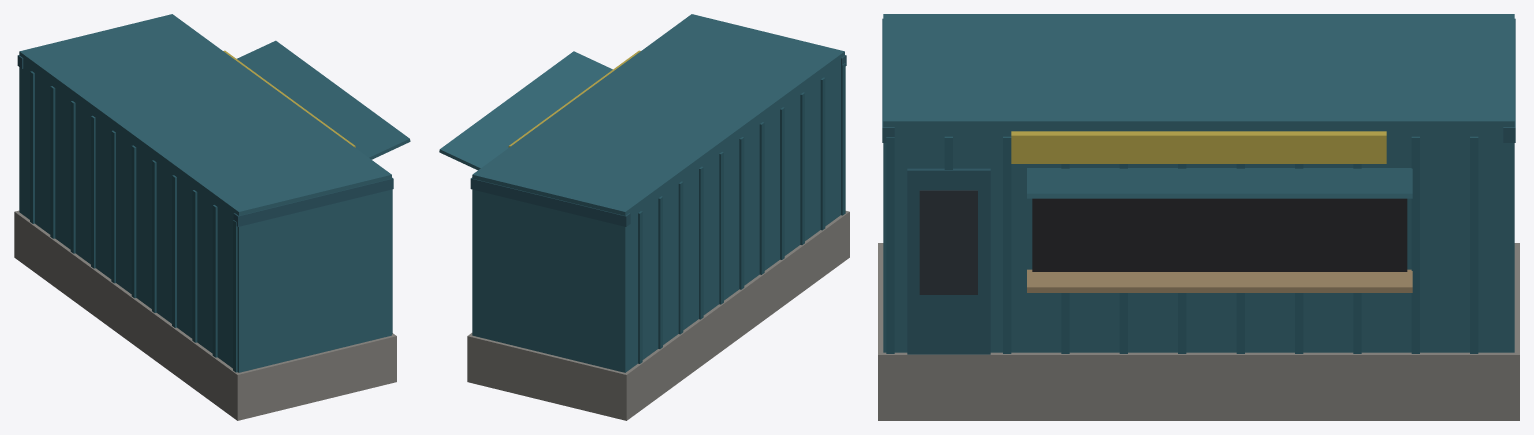
File: SM_Prop_cafe_building_2_LOD1.glb
3 renders of one model, left to right at view 1: azimuth 30°, elevation 25°; view 2: azimuth 150°, elevation 25°; view 3: azimuth 270°, elevation 25°, orthographic. The views are drawn at different scales.
Parts seen in each view (by area): view 1: SM_Prop_cafe_building_2_LOD1; view 2: SM_Prop_cafe_building_2_LOD1; view 3: SM_Prop_cafe_building_2_LOD1.
Part boxes in pixels (box(x1,y1,x2,y2)): SM_Prop_cafe_building_2_LOD1: box(14, 14, 410, 420); SM_Prop_cafe_building_2_LOD1: box(439, 14, 849, 420); SM_Prop_cafe_building_2_LOD1: box(878, 14, 1519, 420).
Bounding box in the file's own units: 3.58 × 3.15 × 6.16.
